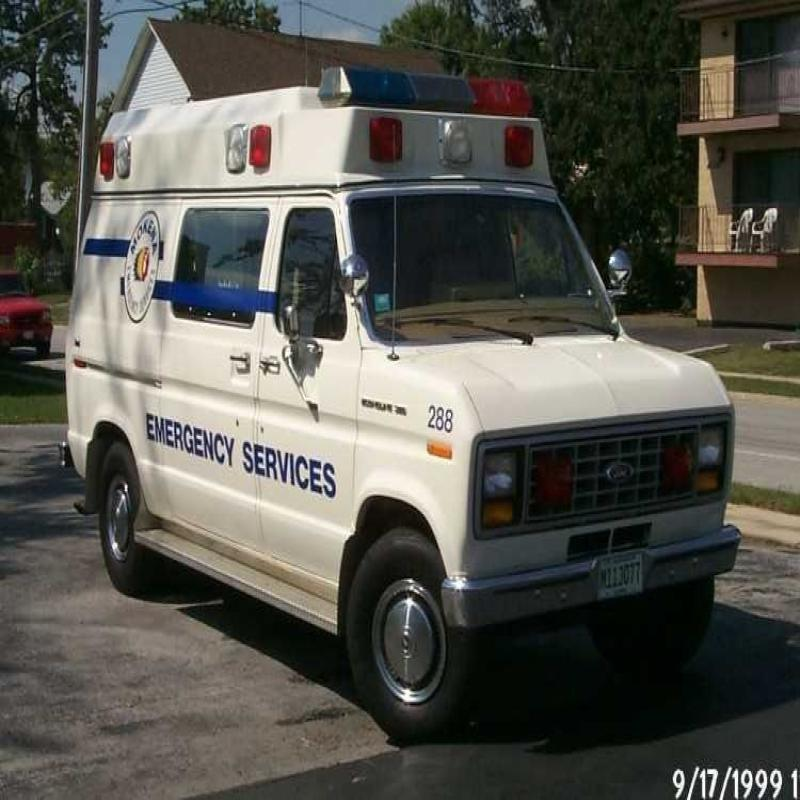AmbulanceSiren: (308, 60, 550, 192)
